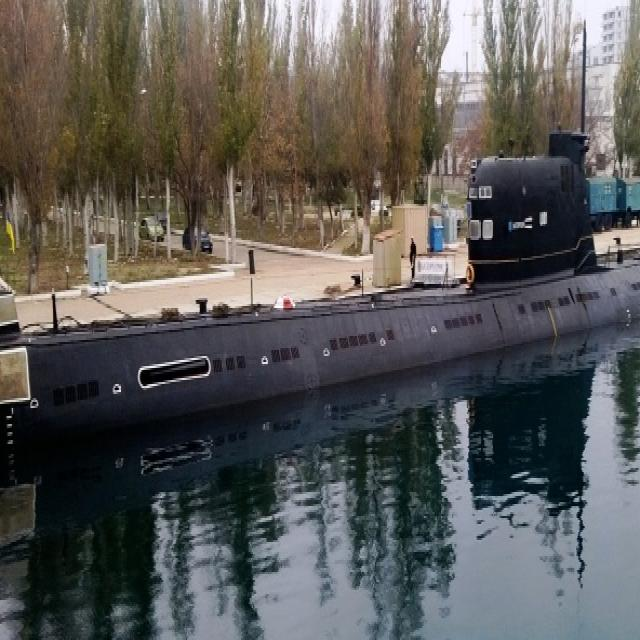submarine: (36, 153, 640, 483)
